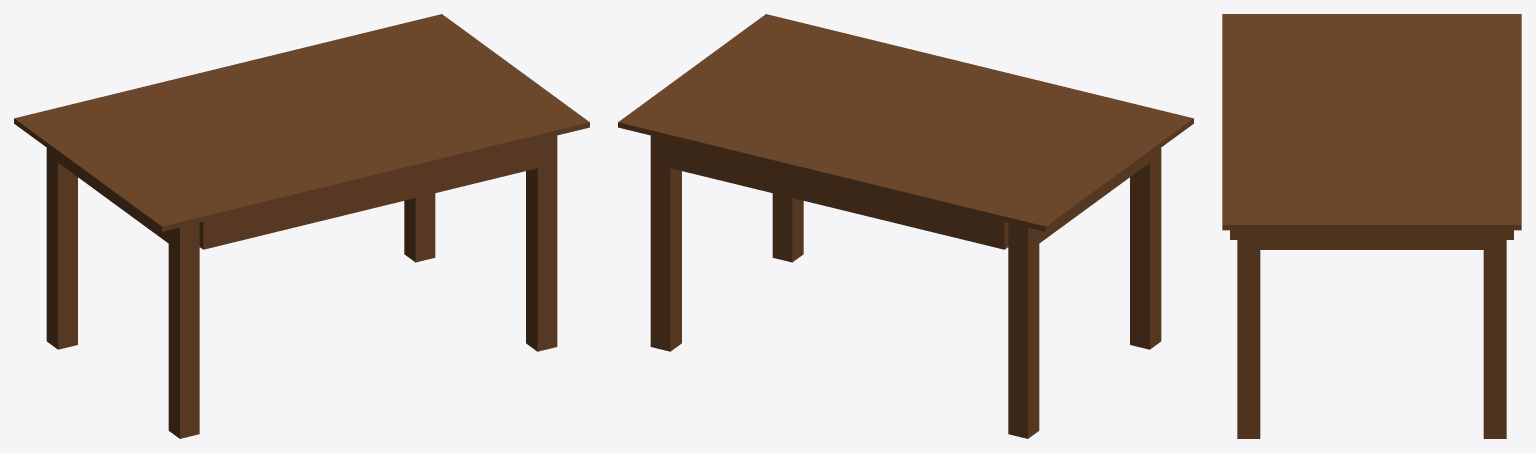
Rendered from Table.obj.
The picture shows the model from 3 angles, left to right: view 1: azimuth 30°, elevation 25°; view 2: azimuth 150°, elevation 25°; view 3: azimuth 270°, elevation 25°; orthographic projection.
Visible parts, largest first — view 1: top, apron.long_1, leg_1, leg_2, leg_3, leg_4, apron.short_1; view 2: top, apron.long_2, leg_3, leg_4, leg_1, leg_2, apron.short_1; view 3: top, leg_2, leg_4, apron.short_2.
Boxes of the visible parts, x1,y1,x2,y2 form: top: [14, 14, 589, 231]; apron.long_1: [199, 139, 541, 249]; leg_1: [168, 223, 199, 438]; leg_2: [526, 135, 557, 351]; leg_3: [46, 148, 77, 349]; leg_4: [404, 193, 435, 262]; apron.short_1: [58, 156, 168, 243]; top: [618, 14, 1193, 231]; apron.long_2: [666, 139, 1008, 249]; leg_3: [1008, 223, 1039, 438]; leg_4: [650, 135, 681, 351]; leg_1: [1130, 148, 1161, 349]; leg_2: [772, 193, 803, 262]; apron.short_1: [1039, 156, 1149, 243]; top: [1222, 14, 1521, 230]; leg_2: [1237, 230, 1260, 438]; leg_4: [1483, 230, 1506, 438]; apron.short_2: [1260, 230, 1483, 249].
Size of the model in its own units: 1.52 by 0.76 by 0.91.
